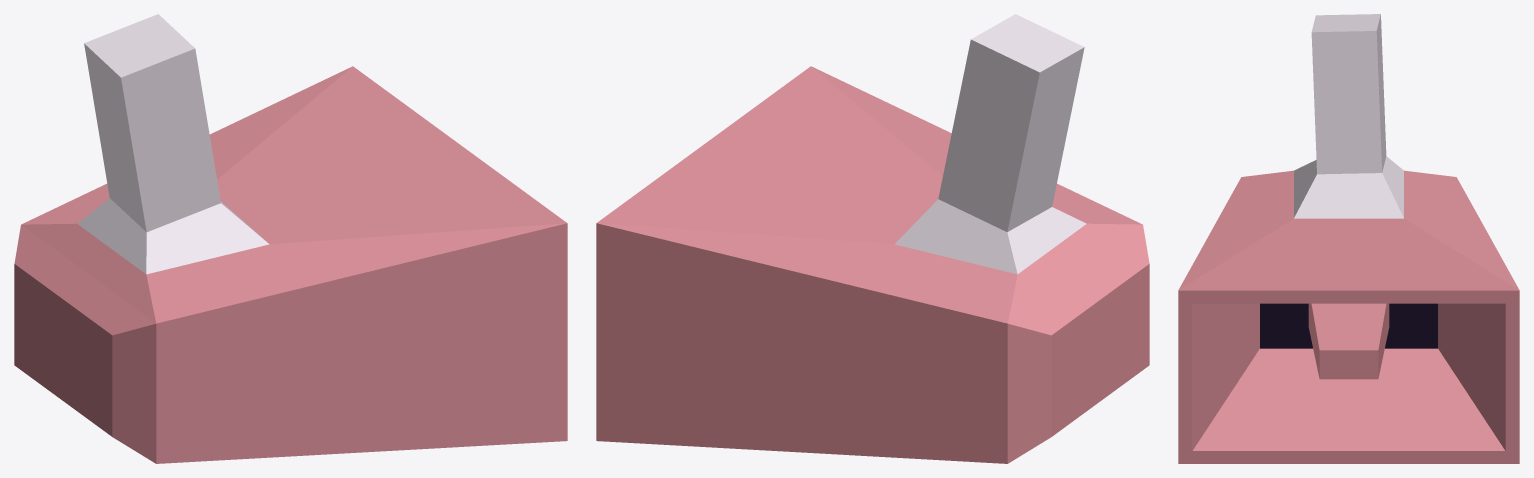
Rendered from PA Speaker.fbx.
3 views of the same model, side by side, from view 1: azimuth 30°, elevation 25°; view 2: azimuth 150°, elevation 25°; view 3: azimuth 270°, elevation 25° (orthographic). The views are drawn at different scales.
Visible parts, largest first — view 1: Cube; view 2: Cube; view 3: Cube.
Boxes of the visible parts, <box> form: Cube: <box>14,14,567,463</box>; Cube: <box>596,14,1149,463</box>; Cube: <box>1178,14,1519,463</box>.
Size of the model in its own units: 49.8 by 48.6 by 46.64.
